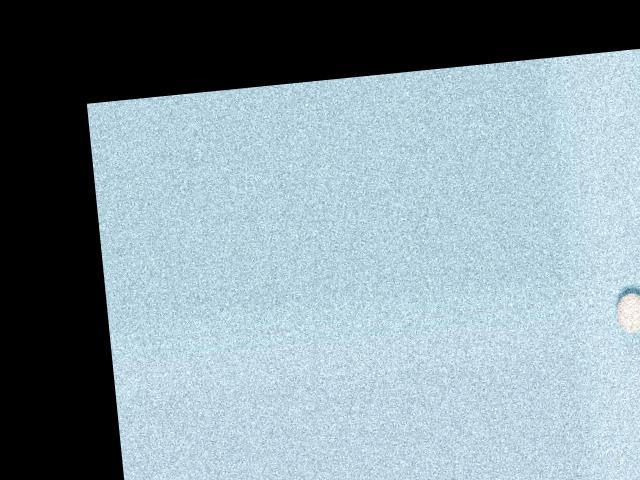egg: (615, 291, 640, 334)
